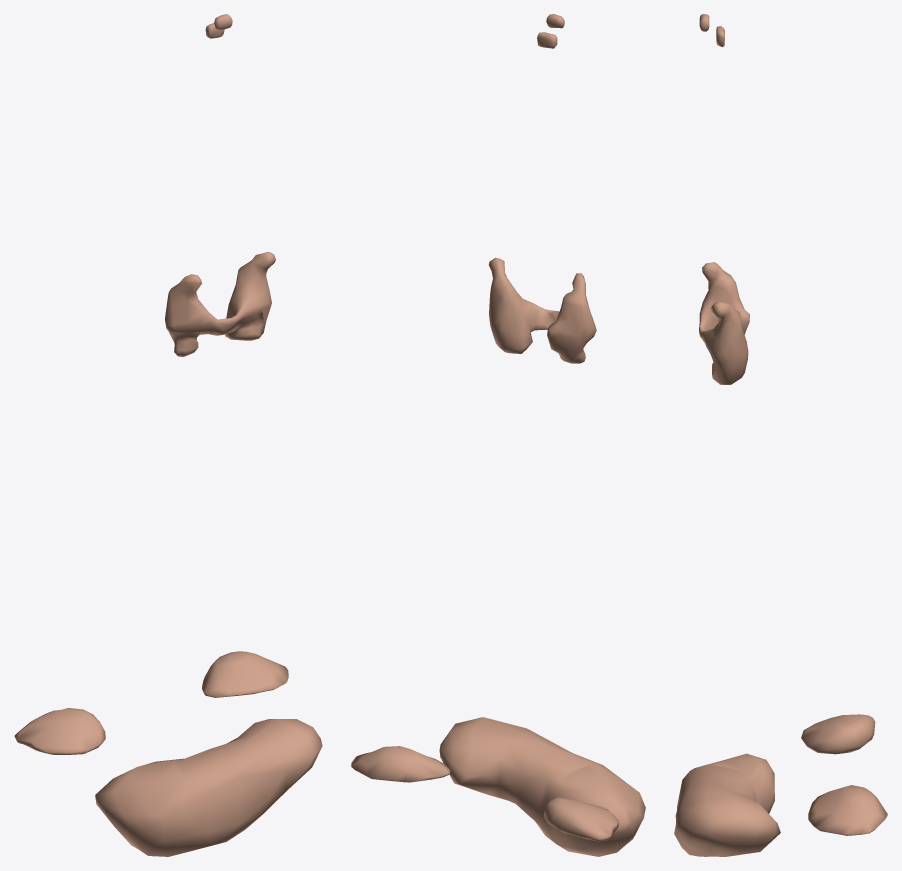
Rendered from icrp_adult_male.endocrine.LOD2.glb.
3 views of the same model, side by side, from view 1: azimuth 30°, elevation 25°; view 2: azimuth 150°, elevation 25°; view 3: azimuth 270°, elevation 25° (orthographic). The views are drawn at different scales.
Parts seen in each view (by area): view 1: ICRP.ADULT.MALE.ENDOCRINE.PANCREAS, ICRP.ADULT.MALE.ENDOCRINE.THYROID, ICRP.ADULT.MALE.ENDOCRINE.ADRENAL.R, ICRP.ADULT.MALE.ENDOCRINE.ADRENAL.L; view 2: ICRP.ADULT.MALE.ENDOCRINE.PANCREAS, ICRP.ADULT.MALE.ENDOCRINE.THYROID, ICRP.ADULT.MALE.ENDOCRINE.ADRENAL.L, ICRP.ADULT.MALE.ENDOCRINE.ADRENAL.R; view 3: ICRP.ADULT.MALE.ENDOCRINE.PANCREAS, ICRP.ADULT.MALE.ENDOCRINE.THYROID, ICRP.ADULT.MALE.ENDOCRINE.ADRENAL.L, ICRP.ADULT.MALE.ENDOCRINE.ADRENAL.R.
Boxes of the visible parts, x1,y1,x2,y2 form: ICRP.ADULT.MALE.ENDOCRINE.PANCREAS: (95, 719, 322, 856); ICRP.ADULT.MALE.ENDOCRINE.THYROID: (165, 252, 275, 356); ICRP.ADULT.MALE.ENDOCRINE.ADRENAL.R: (14, 708, 105, 754); ICRP.ADULT.MALE.ENDOCRINE.ADRENAL.L: (202, 651, 288, 697); ICRP.ADULT.MALE.ENDOCRINE.PANCREAS: (439, 717, 645, 856); ICRP.ADULT.MALE.ENDOCRINE.THYROID: (489, 257, 596, 363); ICRP.ADULT.MALE.ENDOCRINE.ADRENAL.L: (351, 746, 450, 782); ICRP.ADULT.MALE.ENDOCRINE.ADRENAL.R: (544, 797, 618, 841); ICRP.ADULT.MALE.ENDOCRINE.PANCREAS: (674, 753, 780, 856); ICRP.ADULT.MALE.ENDOCRINE.THYROID: (699, 262, 749, 384); ICRP.ADULT.MALE.ENDOCRINE.ADRENAL.L: (808, 785, 887, 835); ICRP.ADULT.MALE.ENDOCRINE.ADRENAL.R: (801, 714, 875, 754).
Bounding box in the file's own units: 0.1632 × 0.4911 × 0.1119.
